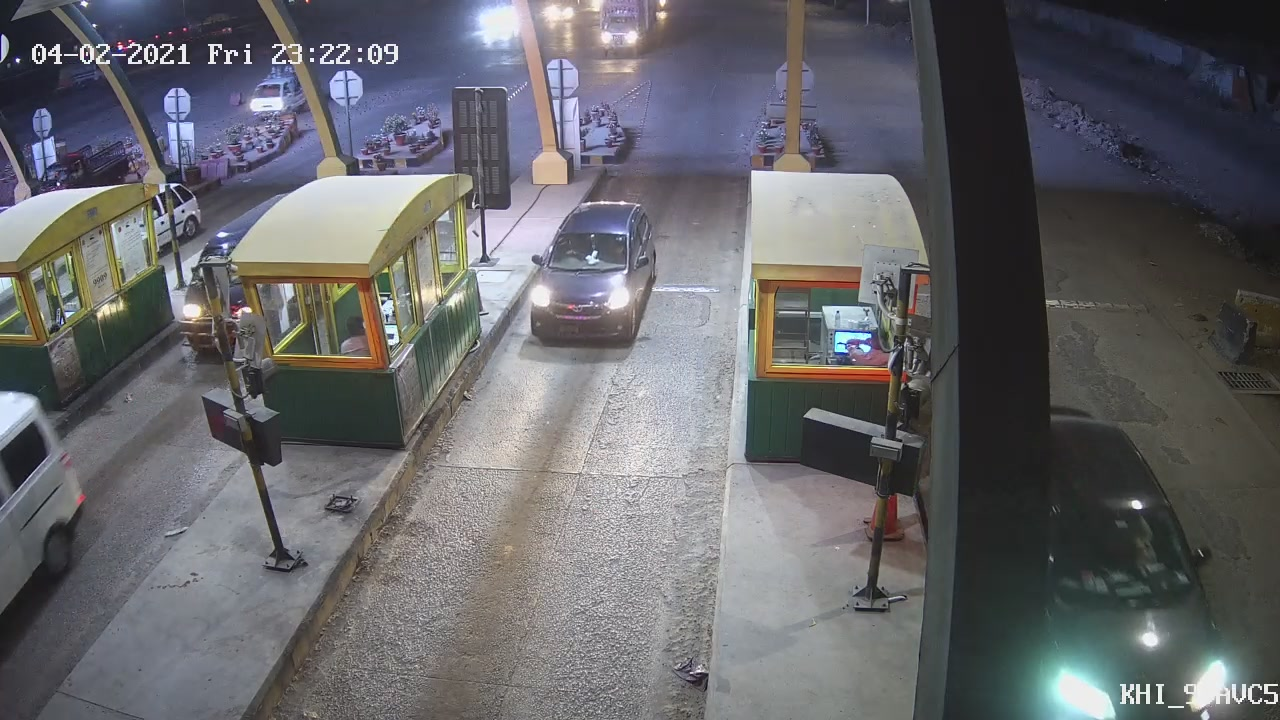F1: (520, 201, 662, 350)
